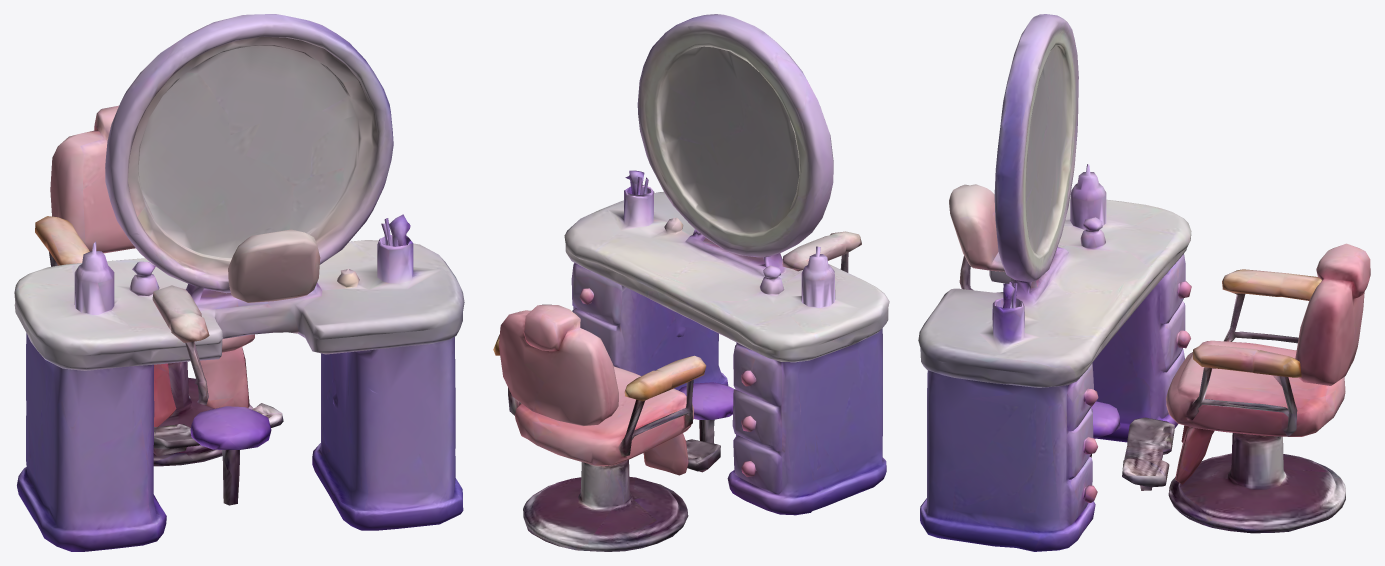
File: salon.glb
3 renders of one model, left to right at view 1: azimuth 30°, elevation 25°; view 2: azimuth 150°, elevation 25°; view 3: azimuth 270°, elevation 25°, orthographic. The views are drawn at different scales.
Visible parts, largest first — view 1: tripo_node_d16e4a3b-73fe-42d9-b491-62a1cf9ef24b; view 2: tripo_node_d16e4a3b-73fe-42d9-b491-62a1cf9ef24b; view 3: tripo_node_d16e4a3b-73fe-42d9-b491-62a1cf9ef24b.
Boxes of the visible parts, <box> form: tripo_node_d16e4a3b-73fe-42d9-b491-62a1cf9ef24b: <box>14,14,464,551</box>; tripo_node_d16e4a3b-73fe-42d9-b491-62a1cf9ef24b: <box>493,14,889,551</box>; tripo_node_d16e4a3b-73fe-42d9-b491-62a1cf9ef24b: <box>918,14,1370,551</box>.
Size of the model in its own units: 0.7927 by 1 by 0.8977.
1 material, 1 textured.
